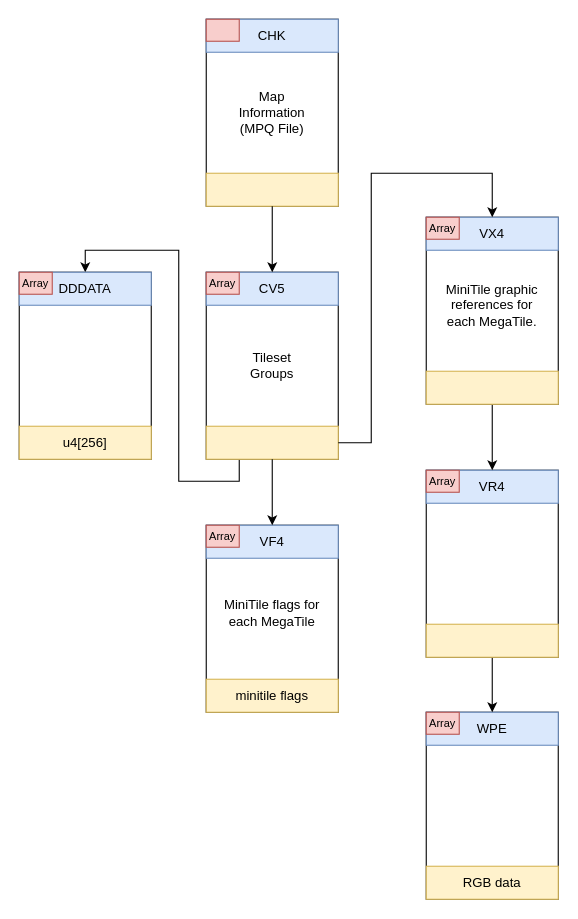
This 578x919 diagram has some shape labels left out. Here are the shapes that lost their labels. From the top down, the centre of each, then its label:
At point (222, 29): "Dict".
At point (271, 189): "MTXM u2[16]".
At point (491, 387): "graphic_ref u2[16]".
At point (271, 442): "vx4_vf4_ref u2[16]".
At point (491, 640): "color_index u1[64]".
